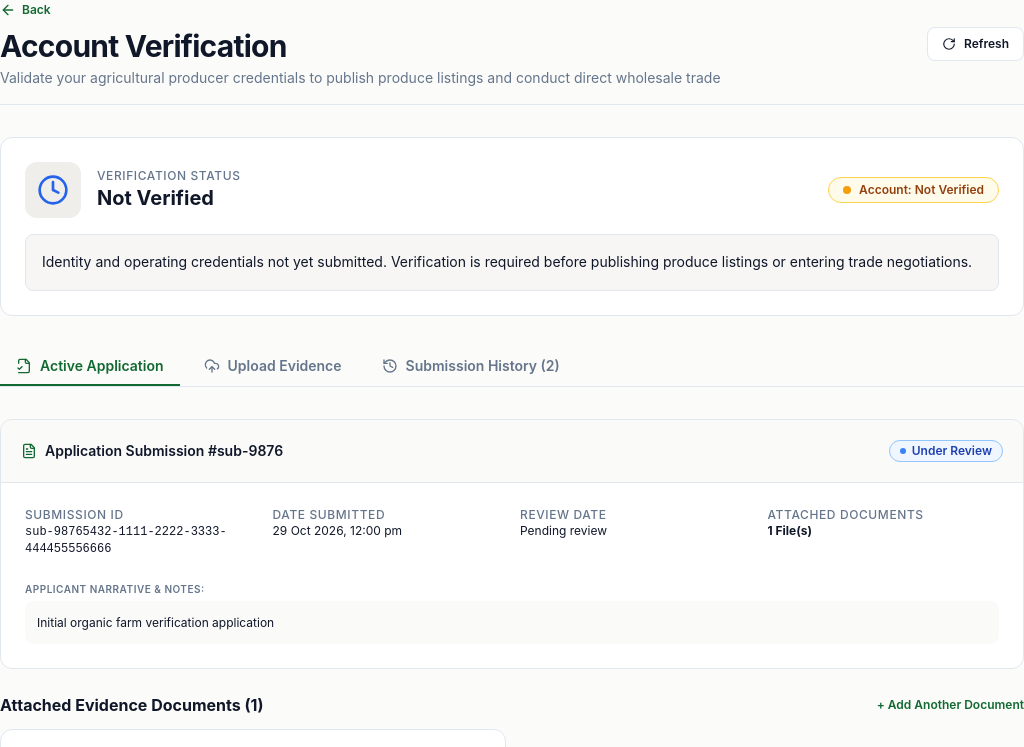
Test: VerificationPage › switches to history tab and renders previous submission records
Click the tab "Submission History (2)": (471, 367) [366,348,576,386]
(page scrolled)
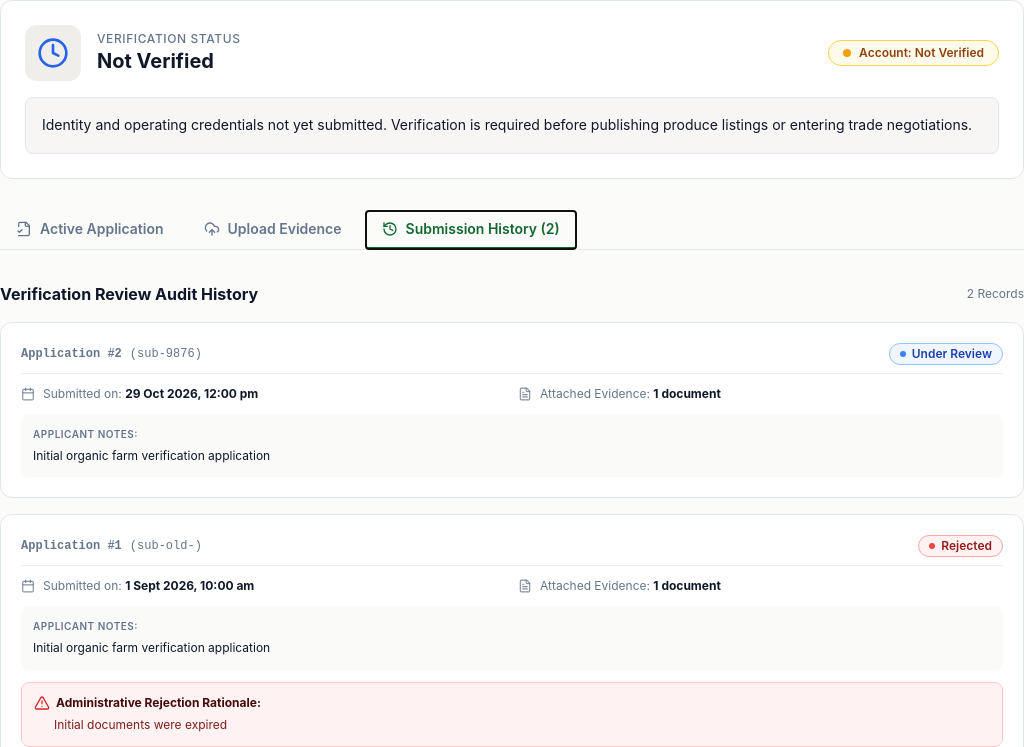
Result: the text "Application #2" is shown at [21,346,122,362]
Result: the text "Application #1" is shown at [21,538,122,554]
Result: the text "Initial documents were expired" is shown at [54,717,227,732]
